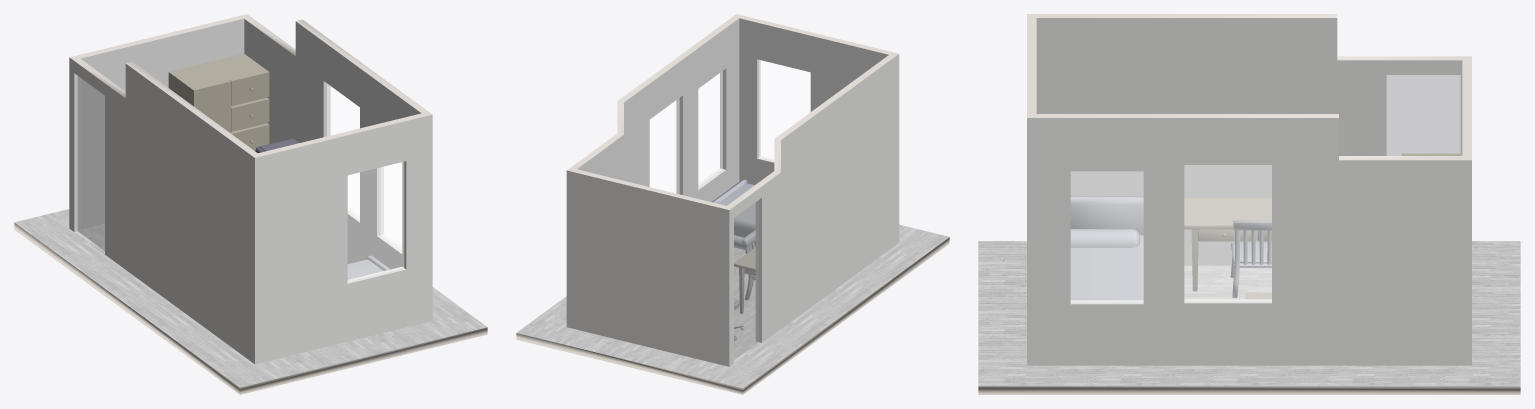
File: poly_white.gltf
3 views of the same model, side by side, from view 1: azimuth 30°, elevation 25°; view 2: azimuth 150°, elevation 25°; view 3: azimuth 270°, elevation 25° (orthographic). The views are drawn at different scales.
Parts seen in each view (by area): view 1: wall_1, wall_3, floor_0, wall_0, wall_2, object_3, window_2, door_0, window_0, window_1, object_6; view 2: wall_1, wall_2, floor_0, wall_0, wall_3, window_2, door_0, window_0, window_1, object_6, object_1; view 3: wall_0, wall_1, floor_0, window_0, window_1, object_6, door_0, object_1, object_0, wall_2, wall_3.
Boxes of the visible parts, <box> form: wall_1: <box>69,57,257,363</box>; wall_3: <box>255,113,432,364</box>; floor_0: <box>14,209,487,394</box>; wall_0: <box>244,14,431,269</box>; wall_2: <box>70,14,246,229</box>; object_3: <box>168,53,269,150</box>; window_2: <box>348,162,403,281</box>; door_0: <box>78,76,104,250</box>; window_0: <box>327,84,359,218</box>; window_1: <box>381,162,401,249</box>; object_6: <box>347,255,390,279</box>; wall_1: <box>727,53,899,366</box>; wall_2: <box>566,169,729,366</box>; floor_0: <box>516,224,949,394</box>; wall_0: <box>567,14,739,201</box>; wall_3: <box>737,14,898,184</box>; window_2: <box>759,60,810,160</box>; door_0: <box>734,200,758,359</box>; window_0: <box>650,98,679,193</box>; window_1: <box>698,71,722,186</box>; object_6: <box>711,179,755,249</box>; object_1: <box>734,247,755,313</box>; wall_0: <box>1027,114,1471,365</box>; wall_1: <box>1027,14,1470,265</box>; floor_0: <box>978,241,1520,394</box>; window_0: <box>1184,165,1271,300</box>; window_1: <box>1071,171,1143,301</box>; object_6: <box>1070,196,1143,300</box>; door_0: <box>1387,75,1460,155</box>; object_1: <box>1184,198,1271,291</box>; object_0: <box>1230,220,1271,297</box>; wall_2: <box>1462,56,1471,159</box>; wall_3: <box>1027,14,1036,117</box>.
Bounding box in the file's own units: 3.54 × 2.92 × 5.59.
29 materials, 1 textured.
